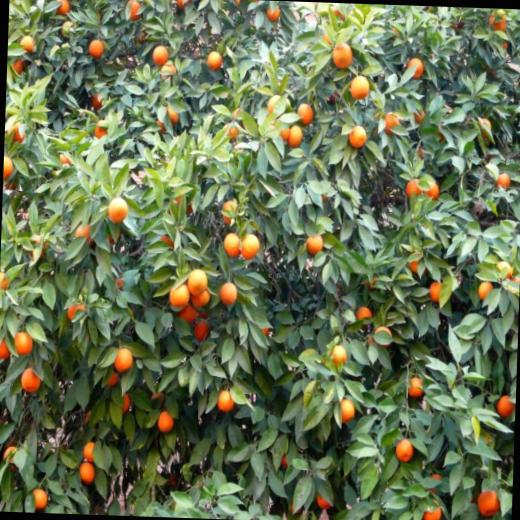Grape: (165, 269, 213, 342), (476, 488, 500, 518), (20, 364, 41, 394), (332, 40, 352, 70), (113, 345, 134, 373), (394, 434, 414, 463), (348, 74, 370, 100), (240, 233, 259, 262), (218, 199, 238, 226), (107, 198, 128, 223), (12, 330, 32, 356), (216, 388, 236, 413), (406, 250, 426, 274), (347, 125, 366, 150), (384, 110, 402, 136), (74, 223, 94, 246), (1, 442, 18, 468), (224, 232, 241, 258), (328, 343, 345, 369), (404, 57, 424, 79), (91, 88, 110, 111), (88, 37, 106, 61), (296, 102, 314, 126), (496, 394, 514, 418), (176, 192, 195, 214), (422, 498, 441, 520), (488, 11, 506, 34), (340, 398, 357, 422), (355, 306, 372, 330), (7, 121, 26, 142), (305, 233, 324, 254), (150, 44, 168, 66), (404, 176, 422, 198), (78, 462, 94, 486), (220, 282, 236, 306), (287, 124, 303, 148), (18, 34, 38, 53), (374, 326, 392, 347), (31, 488, 48, 510), (421, 184, 440, 203), (66, 302, 84, 322), (158, 410, 174, 432), (206, 52, 222, 74), (478, 280, 494, 302), (494, 260, 512, 279), (9, 57, 24, 78), (406, 376, 421, 397), (428, 474, 443, 495), (429, 280, 442, 304), (164, 105, 178, 127), (124, 1, 140, 20), (2, 155, 14, 180), (222, 122, 236, 143), (55, 0, 72, 17), (93, 120, 107, 140), (495, 172, 510, 190), (436, 124, 450, 143), (83, 440, 94, 464), (265, 2, 278, 22), (162, 64, 176, 82), (0, 338, 11, 360), (331, 6, 346, 22), (120, 392, 130, 415), (317, 495, 332, 510), (0, 270, 10, 292), (268, 92, 278, 114), (59, 150, 72, 166), (106, 230, 120, 243), (137, 26, 146, 45), (174, 0, 192, 9), (107, 372, 117, 387), (414, 108, 424, 123), (113, 278, 125, 290), (160, 236, 172, 248), (4, 180, 16, 191), (364, 336, 374, 348), (390, 26, 400, 38), (280, 456, 287, 472), (322, 32, 332, 43), (418, 145, 424, 163), (501, 39, 509, 51), (510, 276, 520, 284)
